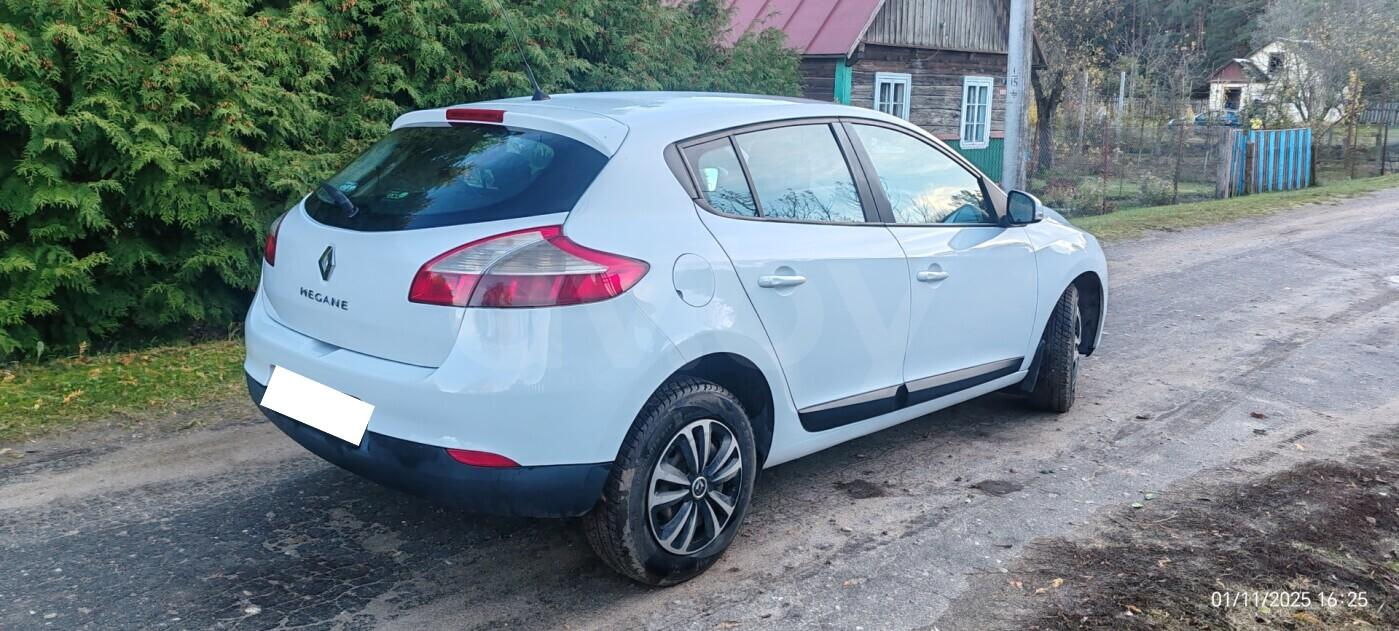Megane_2008-2014: (240, 87, 1115, 580)
